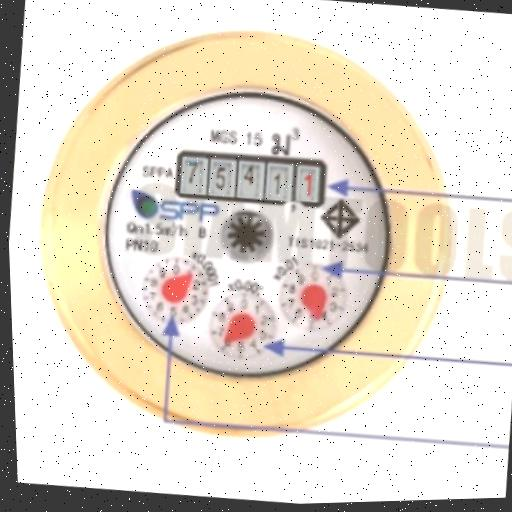1: (269, 168, 288, 201), (299, 170, 318, 201)
4: (239, 164, 261, 199)
5: (211, 162, 231, 197)
7: (182, 161, 203, 195)
border_water_meter_number: (172, 144, 330, 214)
